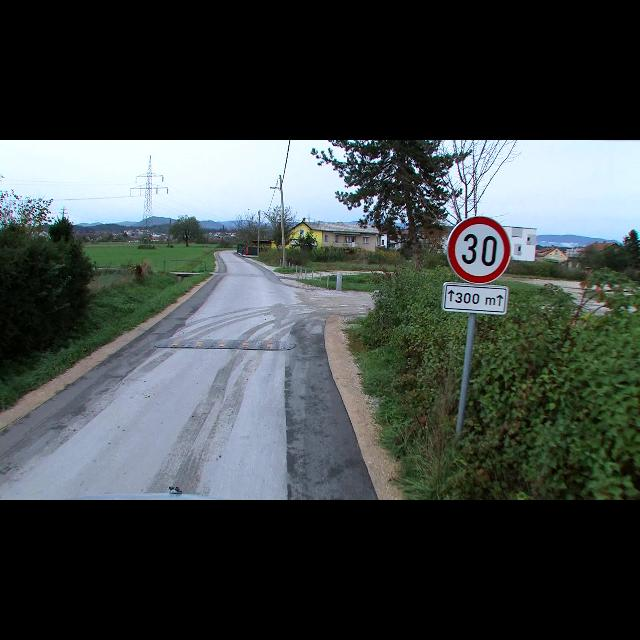Rectangle: (442, 284, 508, 314)
Round: (446, 216, 512, 284)
